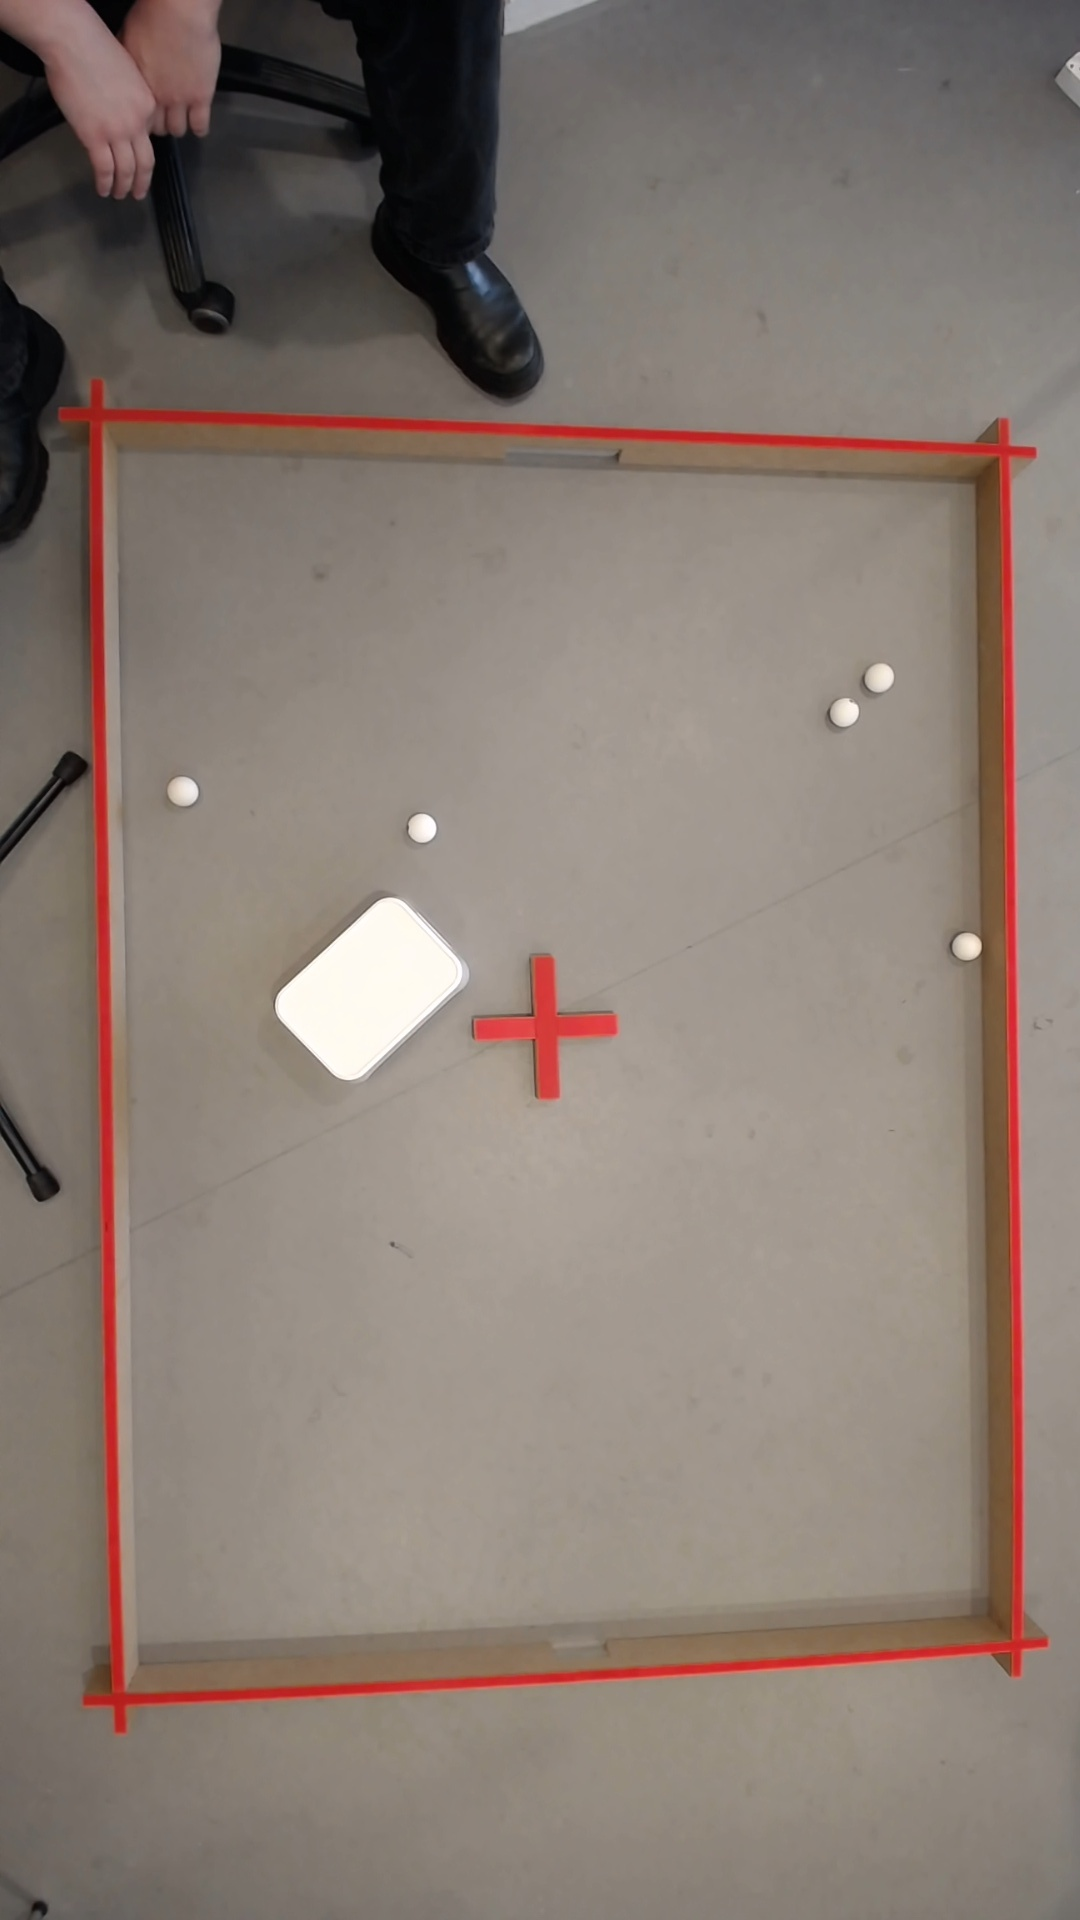balls: (264, 885, 472, 1092), (829, 695, 861, 728), (170, 774, 202, 806), (865, 661, 897, 692), (411, 814, 436, 841)
car: (957, 935, 980, 957)
